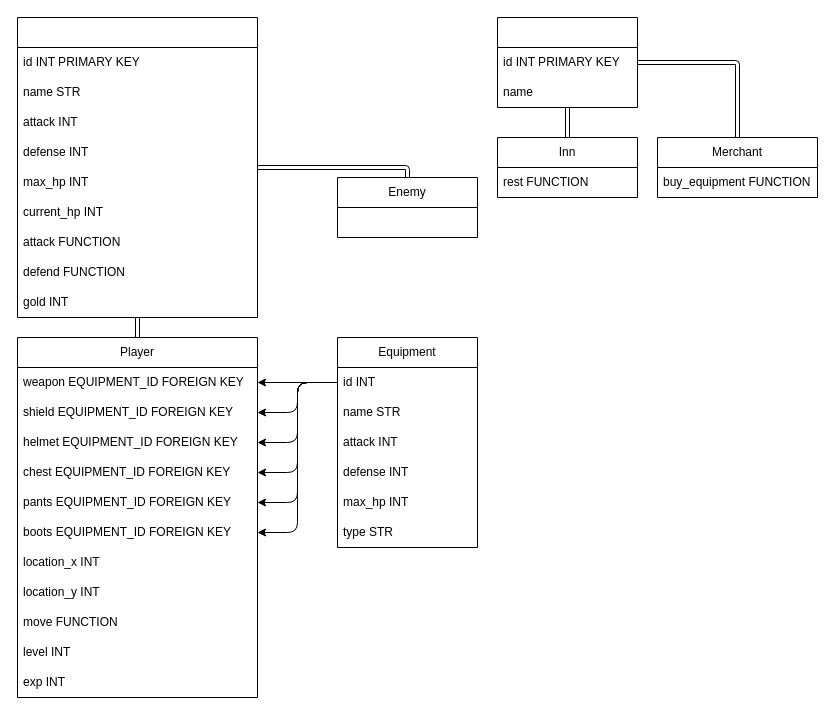
This 835x715 diagram has some shape labels left out. The shapes that lost their labels are listed below. From the top down, each one's box as (x1, y1, x2, y2) in pixels, then its label:
(496, 16, 638, 108): Location
(16, 16, 258, 318): Character
